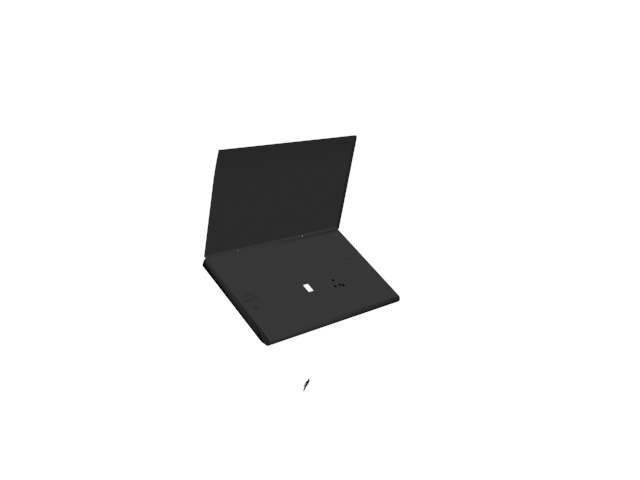laptop_computer: (201, 129, 400, 392)
